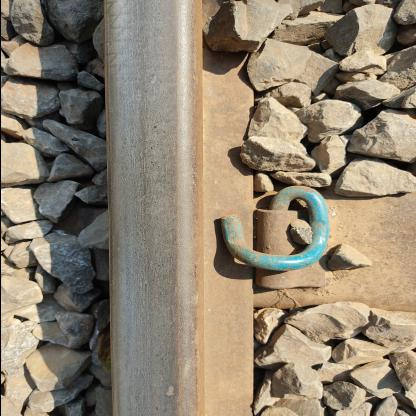Non Defective 1: (212, 168, 343, 301)
